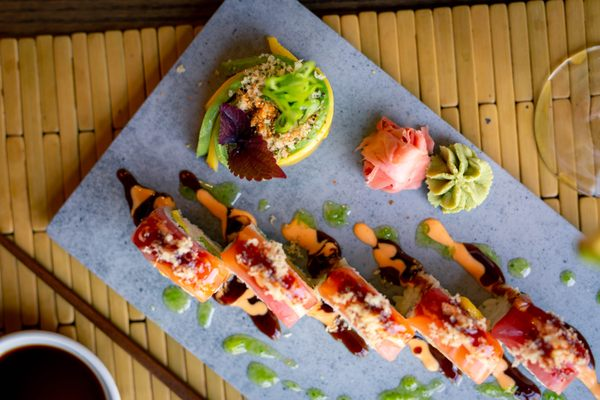curry: (260, 59, 324, 135)
